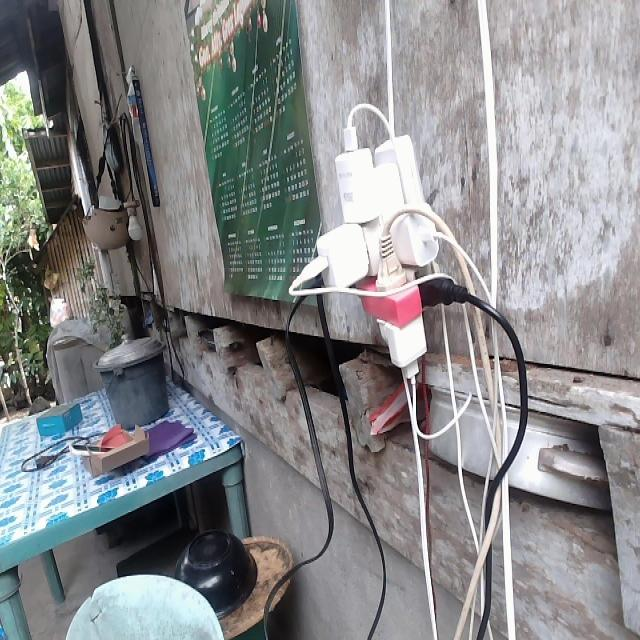-: (308, 124, 475, 391)
